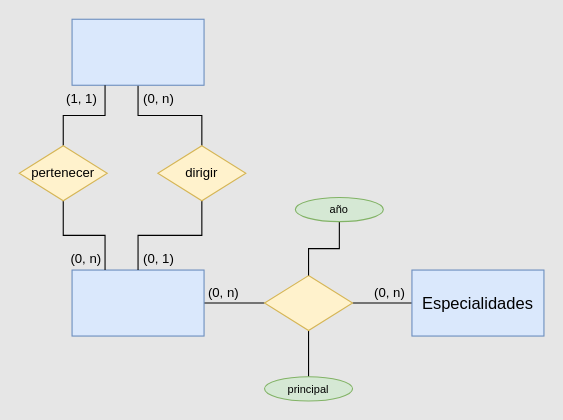
Some shapes in this 563 by 420 pixel diagram are drawn without their labels. The shapes that lost their labels are listed below. From the top down, each one's box as (x1, y1, x2, y2) in pixels, then its label:
(71, 18, 204, 85): Servicios
(71, 269, 204, 336): Medicos
(263, 274, 353, 331): tener
